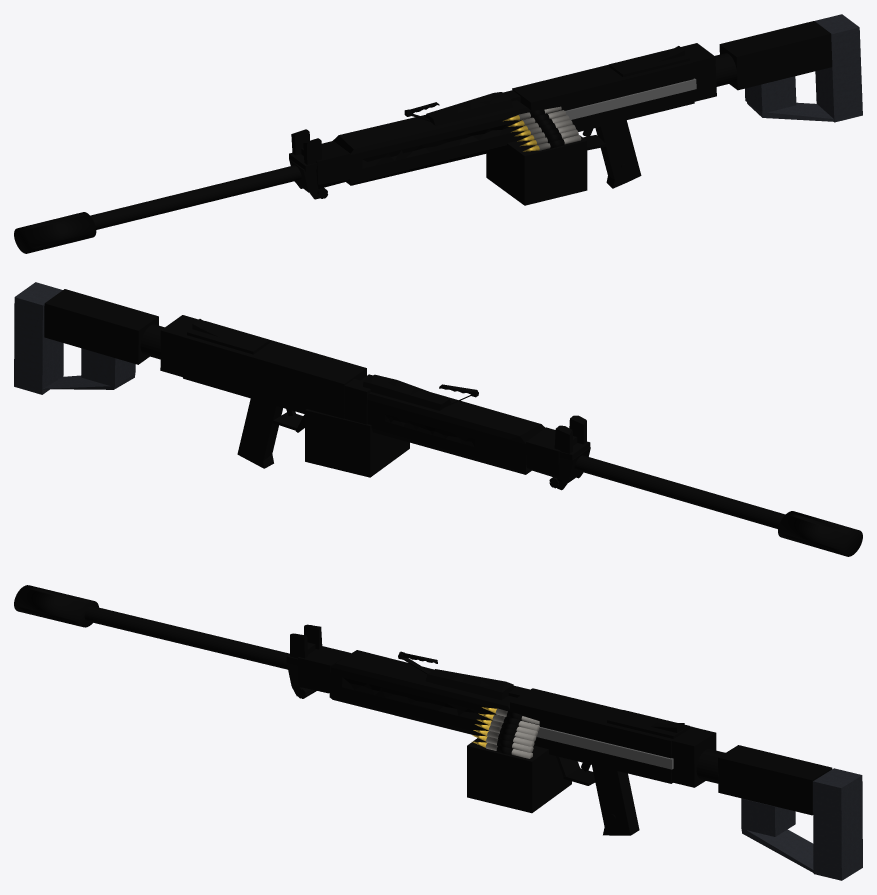
The model's file is gun.glb.
3 renders of one model, top to bottom at view 1: azimuth 30°, elevation 25°; view 2: azimuth 150°, elevation 25°; view 3: azimuth 330°, elevation 25°, orthographic. The views are drawn at different scales.
Visible parts, largest first — view 1: Cylinder.021; view 2: Cylinder.021; view 3: Cylinder.021.
Boxes of the visible parts, x1,y1,x2,y2 form: Cylinder.021: [14, 14, 862, 253]; Cylinder.021: [14, 282, 862, 556]; Cylinder.021: [14, 585, 862, 880].
Size of the model in its own units: 28.66 by 4.14 by 2.85.
Materials: 9 (8 with a texture image).
